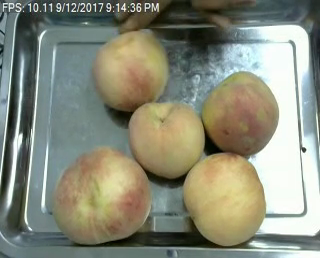Peach: (52, 145, 152, 244), (184, 151, 265, 247), (201, 71, 279, 155), (93, 29, 169, 112), (127, 99, 203, 177)
